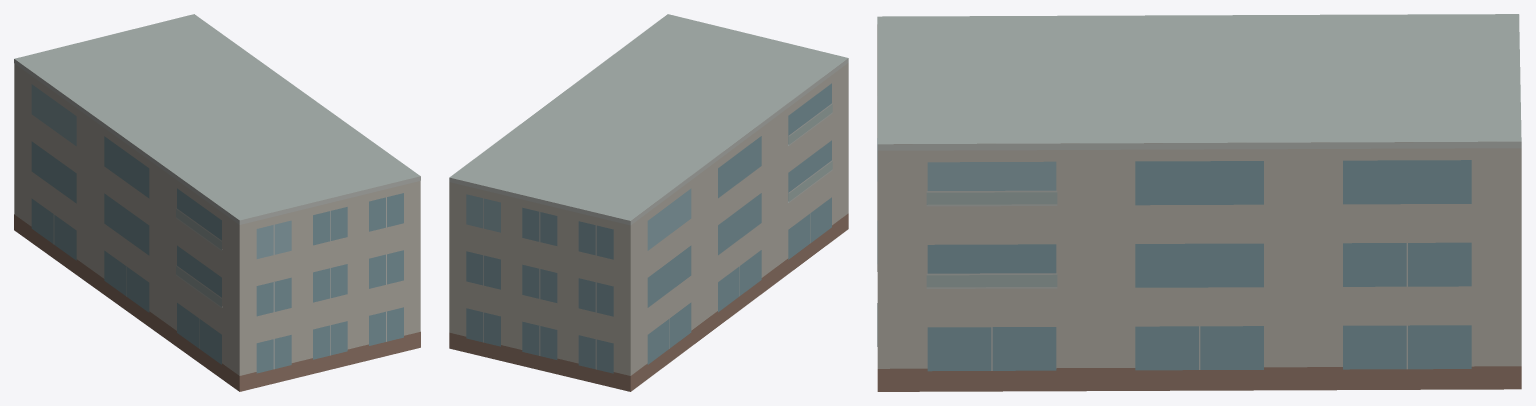
The model's file is survey-upis-32912782.glb.
3 views of the same model, side by side, from view 1: azimuth 30°, elevation 25°; view 2: azimuth 150°, elevation 25°; view 3: azimuth 270°, elevation 25° (orthographic). The views are drawn at different scales.
Visible parts, largest first — view 1: survey-upis-32912782.tmp; view 2: survey-upis-32912782.tmp; view 3: survey-upis-32912782.tmp.
Boxes of the visible parts, box(x1,y1,x2,y2) form: survey-upis-32912782.tmp: box(14, 14, 420, 391); survey-upis-32912782.tmp: box(449, 14, 848, 391); survey-upis-32912782.tmp: box(877, 14, 1521, 391).
Size of the model in its own units: 10.34 by 9.15 by 21.58.
